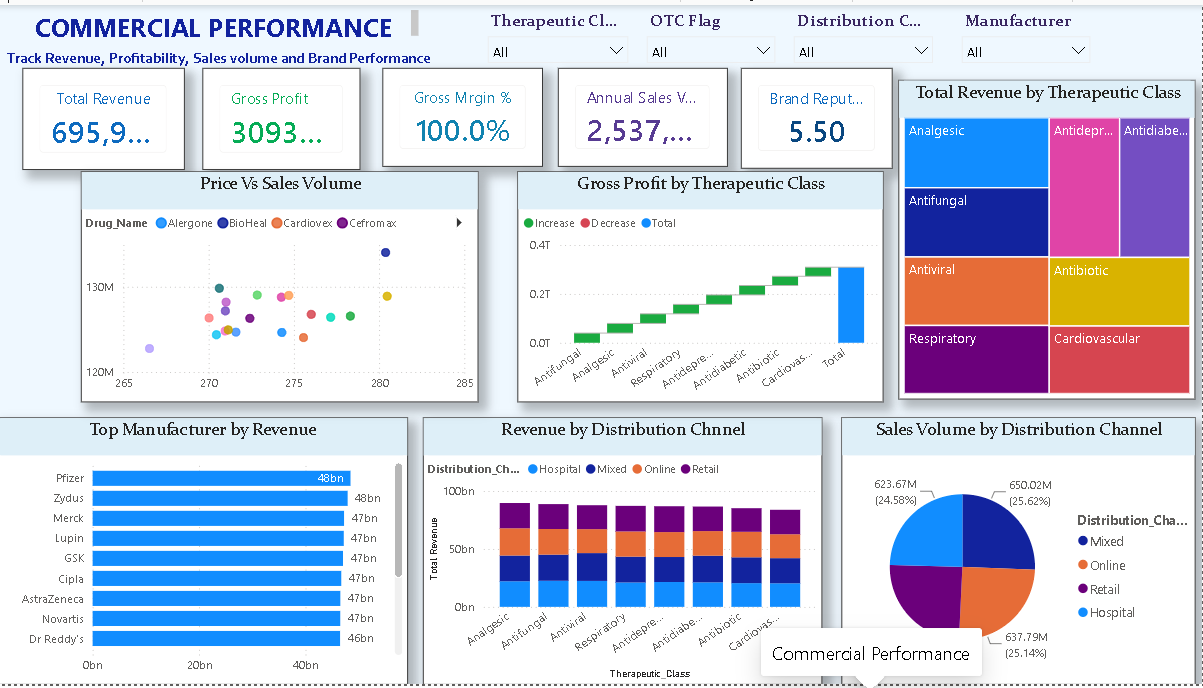

The page's visual inventory and layout, read from the dashboard file:
{"tool":"powerbi","page":{"name":"Commercial Performance","canvas":[1280,720],"ordinal":3},"visuals":[{"type":"cardVisual","fields":{"Data":["Drug_Regulatory_Dataset.Total Revenue"]},"box":[30.2,66.8,171.8,108.2],"z":0},{"type":"cardVisual","fields":{"Data":["Sum(Drug_Regulatory_Dataset.Gross Profit)"]},"box":[221.1,66.8,167,108.2],"z":1000},{"type":"cardVisual","fields":{"Data":["Divide(Drug_Regulatory_Dataset.Gross Mrgin %, ScopedEval(Drug_Regulatory_Dataset.Gross Mrgin %, []))"]},"box":[412,66.8,170.2,105],"z":2000},{"type":"cardVisual","fields":{"Data":["Sum(Drug_Regulatory_Dataset.Annual_Sales_Volume)"]},"box":[598.1,66.8,179.7,105],"z":3000},{"type":"cardVisual","fields":{"Data":["Avg(Drug_Regulatory_Dataset.Brand_Reputation_Score)"]},"box":[792.1,66.8,160.7,106.6],"z":4000},{"type":"barChart","title":"Top Manufacturer by Revenue","fields":{"Category":["Drug_Regulatory_Dataset.Manufacturer_Brand"],"Y":["Drug_Regulatory_Dataset.Total Revenue"]},"box":[1.6,437.4,437.4,283.1],"z":5000},{"type":"columnChart","title":"Revenue by Distribution Chnnel","fields":{"Category":["Drug_Regulatory_Dataset.Therapeutic_Class"],"Y":["Drug_Regulatory_Dataset.Total Revenue"],"Series":["Drug_Regulatory_Dataset.Distribution_Channel"]},"box":[454.9,437.4,423.1,283.1],"z":6000},{"type":"slicer","fields":{"Values":["Drug_Regulatory_Dataset.Manufacturer_Brand"]},"box":[1016.4,0,155.9,71.6],"z":7000},{"type":"slicer","fields":{"Values":["Drug_Regulatory_Dataset.Therapeutic_Class"]},"box":[513.8,0,168.6,70],"z":8000},{"type":"slicer","fields":{"Values":["Drug_Regulatory_Dataset.Distribution_Channel"]},"box":[838.3,0,167,70],"z":9000},{"type":"slicer","fields":{"Values":["Drug_Regulatory_Dataset.OTC_Flag"]},"box":[682.4,0,155.9,70],"z":10000},{"type":"scatterChart","title":"Price Vs Sales Volume","fields":{"X":["Drug_Regulatory_Dataset.Price_Per_Unit"],"Y":["Drug_Regulatory_Dataset.Annual_Sales_Volume"],"Series":["Drug_Regulatory_Dataset.Drug_Name"]},"box":[92.3,176.6,421.5,245],"z":11000},{"type":"waterfallChart","title":"Gross Profit by Therapeutic Class","fields":{"Category":["Drug_Regulatory_Dataset.Therapeutic_Class"],"Y":["Drug_Regulatory_Dataset.Total Gross Profit"]},"box":[555.1,176.6,388.1,245],"z":12000},{"type":"treemap","title":"Total Revenue by Therapeutic Class","fields":{"Group":["Drug_Regulatory_Dataset.Therapeutic_Class"],"Values":["Drug_Regulatory_Dataset.Total Revenue"]},"box":[959.1,79.5,314.9,338.8],"z":13000},{"type":"pieChart","title":"Sales Volume by Distribution Channel","fields":{"Category":["Drug_Regulatory_Dataset.Distribution_Channel"],"Y":["Sum(Drug_Regulatory_Dataset.Annual_Sales_Volume)"]},"box":[898.7,437.4,375.4,283.1],"z":14000},{"type":"textbox","box":[17.5,0,437.4,41.4],"z":15000},{"type":"textbox","box":[1.6,41.4,474,30.2],"z":16000}]}

Visuals, with their boxes in screenshot pixels (x1, y1, x2, y2), scaled from the page's 1280x720 canvas onto the 1203x688 screenshot:
cardVisual - Drug_Regulatory_Dataset.Total Revenue: l=28, t=64, r=190, b=167
cardVisual - Sum(Drug_Regulatory_Dataset.Gross Profit): l=208, t=64, r=365, b=167
cardVisual - Divide(Drug_Regulatory_Dataset.Gross Mrgin %, ScopedEval(Drug_Regulatory_Dataset.Gross Mrgin %, [])): l=387, t=64, r=547, b=164
cardVisual - Sum(Drug_Regulatory_Dataset.Annual_Sales_Volume): l=562, t=64, r=731, b=164
cardVisual - Avg(Drug_Regulatory_Dataset.Brand_Reputation_Score): l=744, t=64, r=895, b=166
"Top Manufacturer by Revenue" barChart: l=2, t=418, r=413, b=687
"Revenue by Distribution Chnnel" columnChart: l=428, t=418, r=825, b=687
slicer - Drug_Regulatory_Dataset.Manufacturer_Brand: l=955, t=0, r=1102, b=68
slicer - Drug_Regulatory_Dataset.Therapeutic_Class: l=483, t=0, r=641, b=67
slicer - Drug_Regulatory_Dataset.Distribution_Channel: l=788, t=0, r=945, b=67
slicer - Drug_Regulatory_Dataset.OTC_Flag: l=641, t=0, r=788, b=67
"Price Vs Sales Volume" scatterChart: l=87, t=169, r=483, b=403
"Gross Profit by Therapeutic Class" waterfallChart: l=522, t=169, r=886, b=403
"Total Revenue by Therapeutic Class" treemap: l=901, t=76, r=1197, b=400
"Sales Volume by Distribution Channel" pieChart: l=845, t=418, r=1197, b=687
textbox: l=16, t=0, r=428, b=40
textbox: l=2, t=40, r=447, b=68
